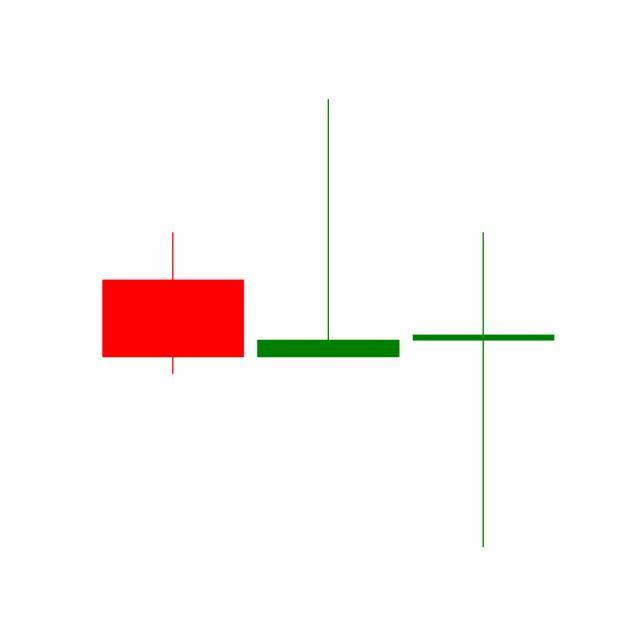Spinning Top: (406, 230, 562, 552)
